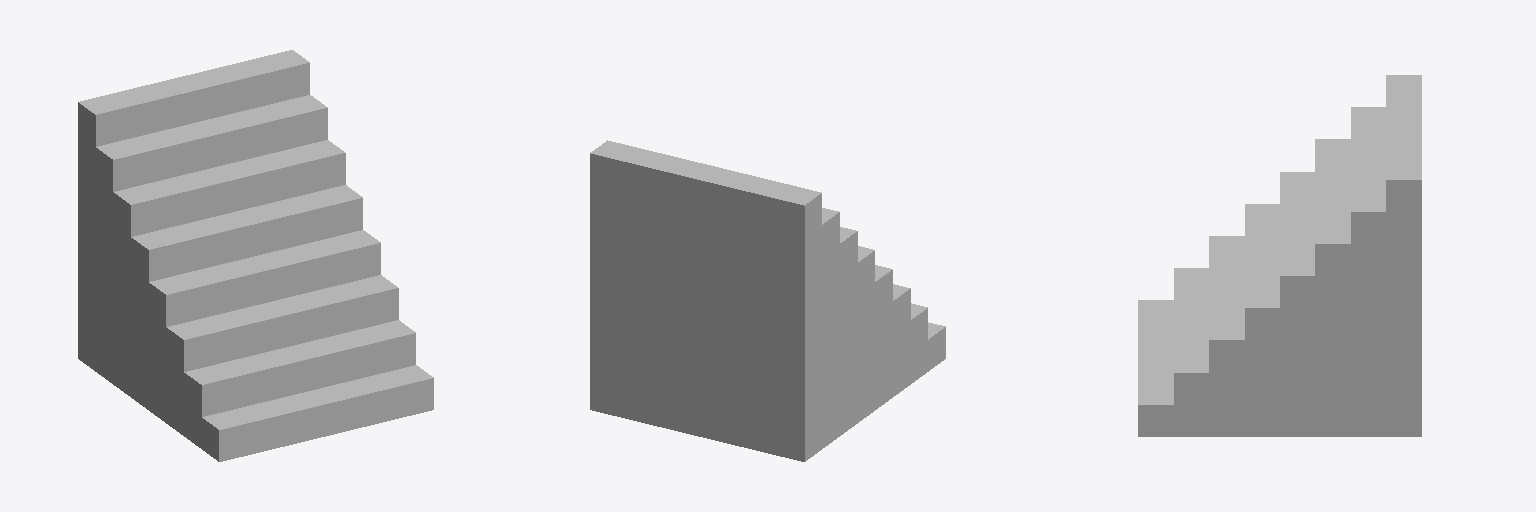
The model's file is stairs.obj.
3 renders of one model, left to right at view 1: azimuth 30°, elevation 25°; view 2: azimuth 150°, elevation 25°; view 3: azimuth 270°, elevation 25°, orthographic.
Bounding box in the file's own units: 14 × 16 × 16.